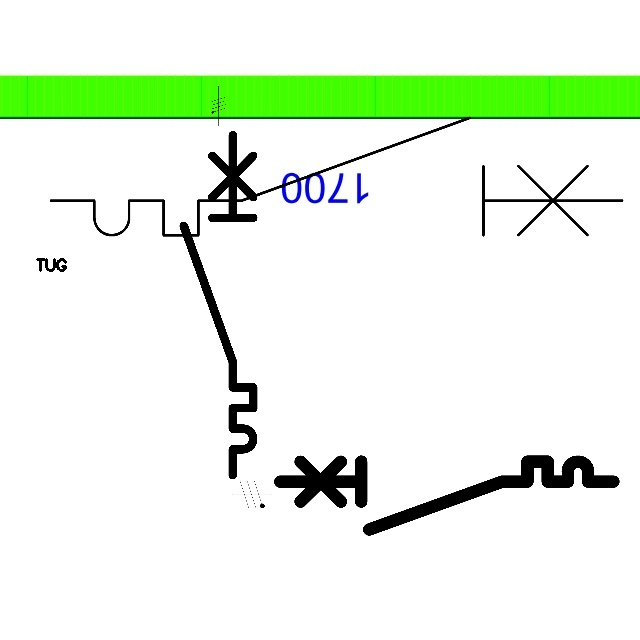interruptor_termomagnetico: (36, 103, 637, 250), (175, 126, 262, 483), (271, 453, 621, 538)
